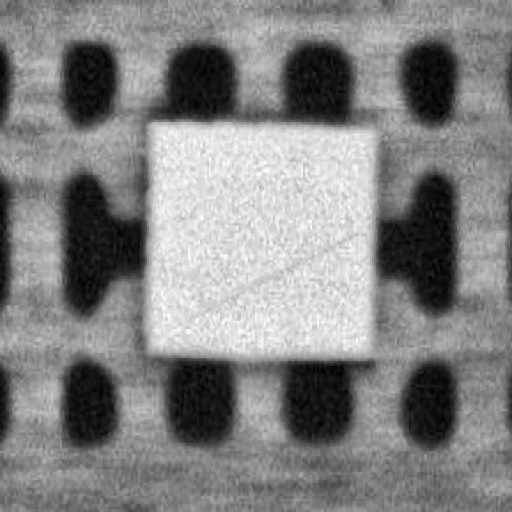DIE_CRACK: (281, 152, 512, 210)
